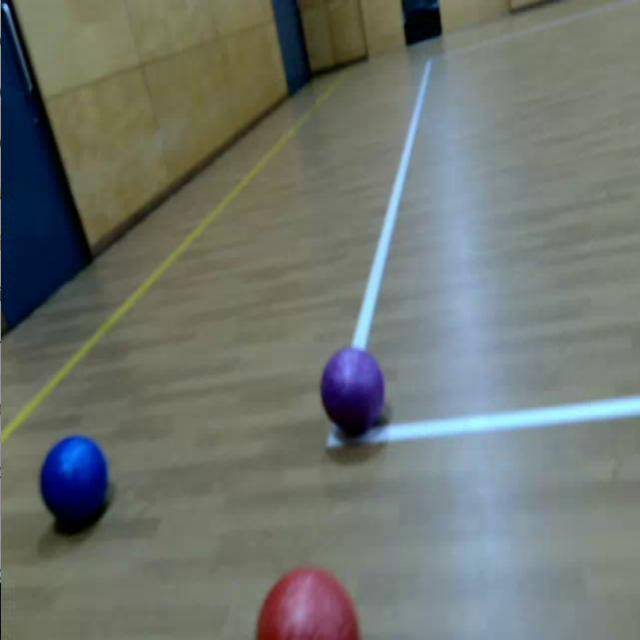blue_ball: (39, 433, 110, 529)
purple_ball: (321, 347, 385, 435)
red_ball: (254, 563, 360, 640)
